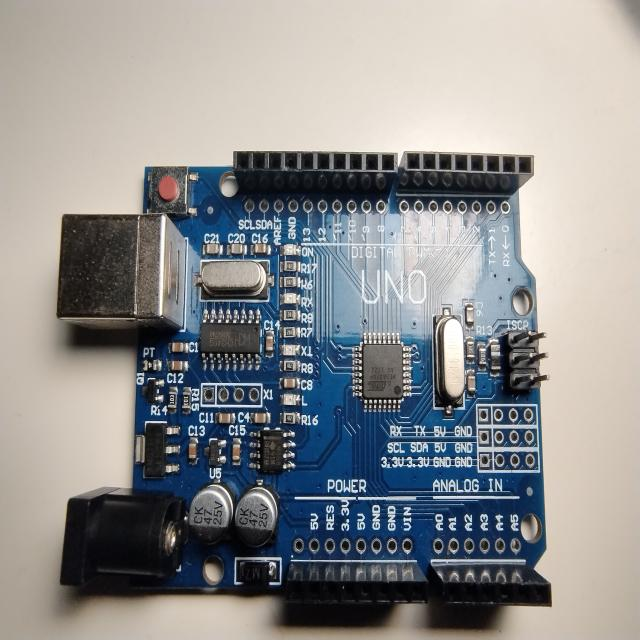arduino: (52, 136, 557, 616)
